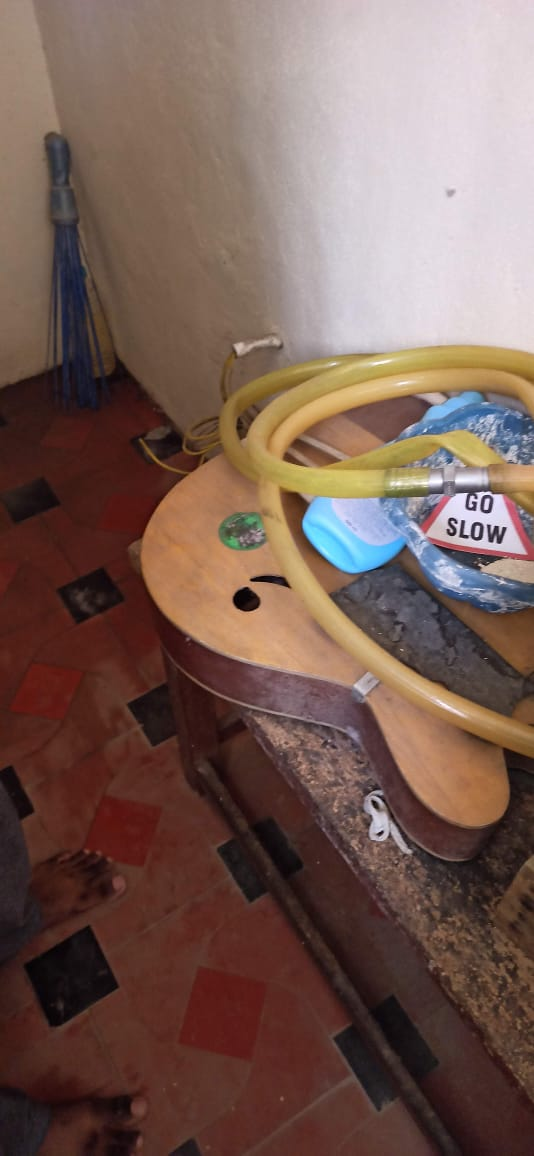GO SLOW: (410, 459, 534, 574)
